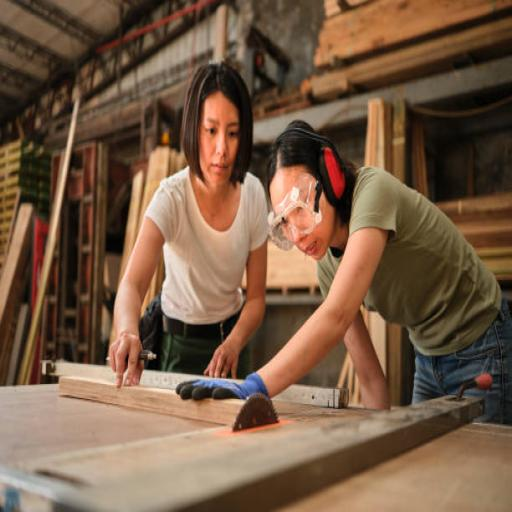No Helmet: (265, 110, 362, 262), (176, 50, 262, 214)
gloves: (173, 360, 296, 409)
no jacket: (308, 151, 508, 388), (140, 151, 274, 346)
nogloves: (104, 309, 158, 401), (203, 330, 248, 394)
nosafety glasses: (186, 104, 248, 148)
safety glasses: (266, 168, 333, 257)
